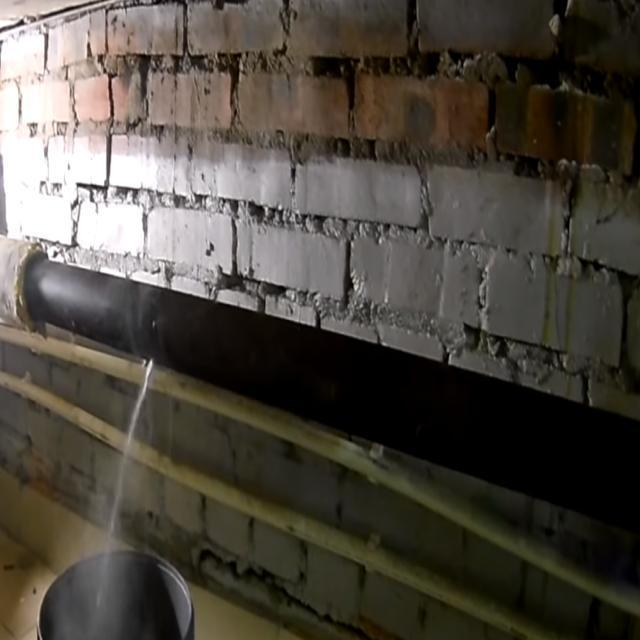pipe burst: (92, 347, 164, 615)
